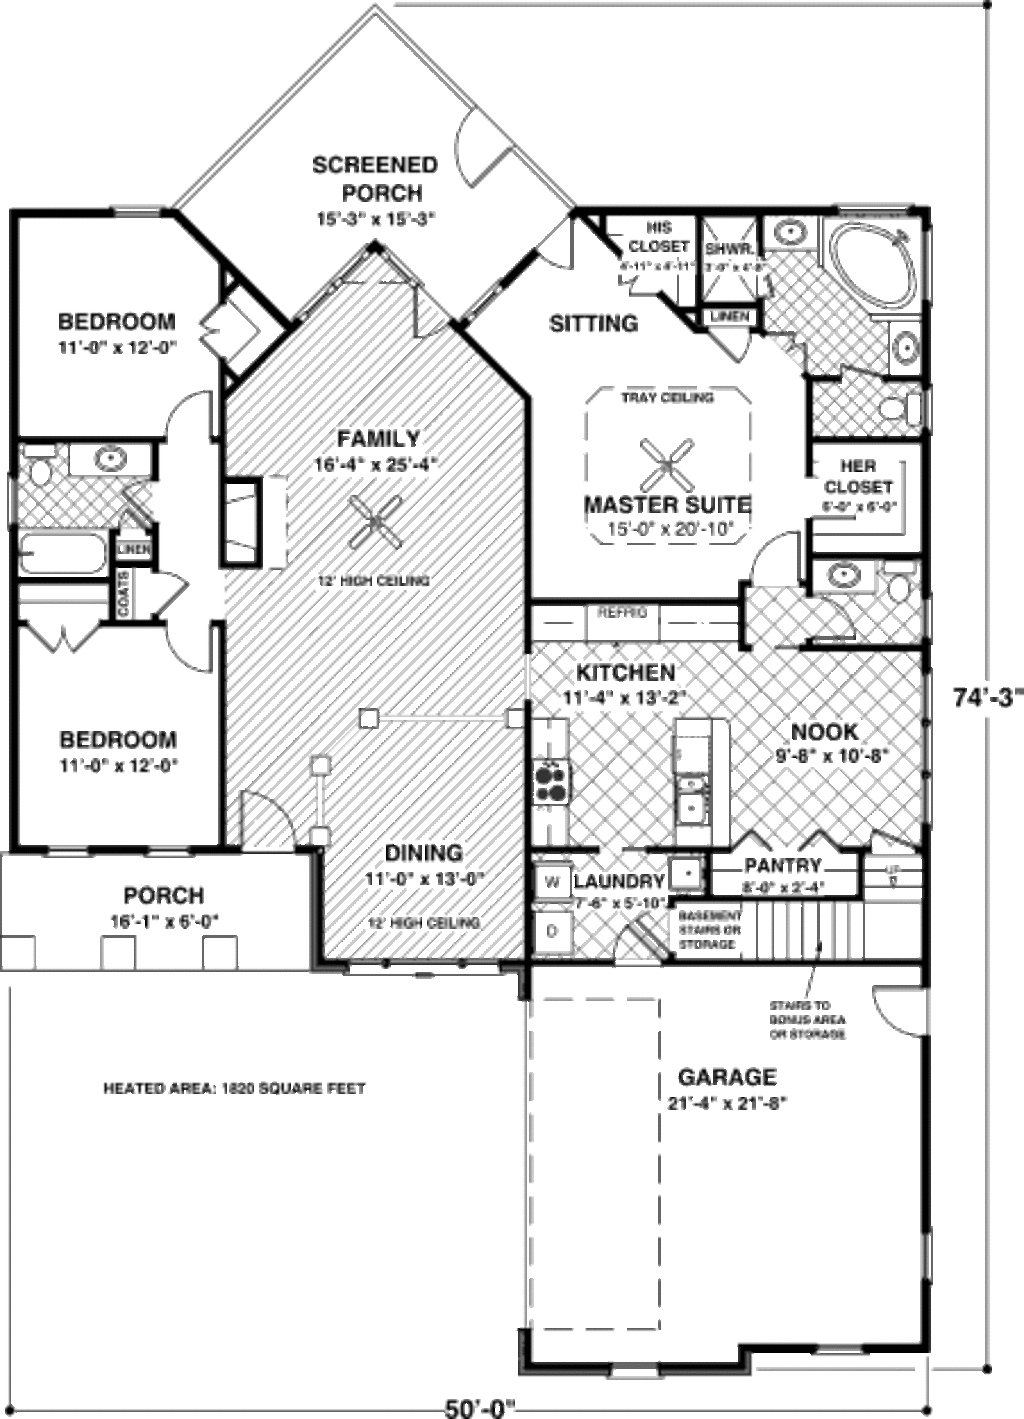door: (436, 90, 521, 197), (148, 377, 226, 453), (230, 782, 301, 862), (17, 610, 126, 659), (524, 215, 588, 293), (867, 977, 941, 1044), (748, 517, 810, 593), (697, 313, 764, 373), (610, 913, 679, 966), (161, 613, 213, 673), (793, 588, 850, 642), (148, 564, 188, 613)
kitchen_bar: (668, 709, 735, 853)
large_sink: (873, 382, 933, 437), (879, 550, 926, 606), (21, 433, 60, 492)
small_sink: (881, 306, 935, 377), (66, 442, 150, 477), (764, 213, 821, 253)
stairs: (690, 848, 928, 968)
tub: (8, 522, 104, 579)
window: (341, 953, 506, 982), (921, 1218, 944, 1293), (41, 835, 93, 864), (108, 208, 179, 226), (608, 1357, 668, 1375)
